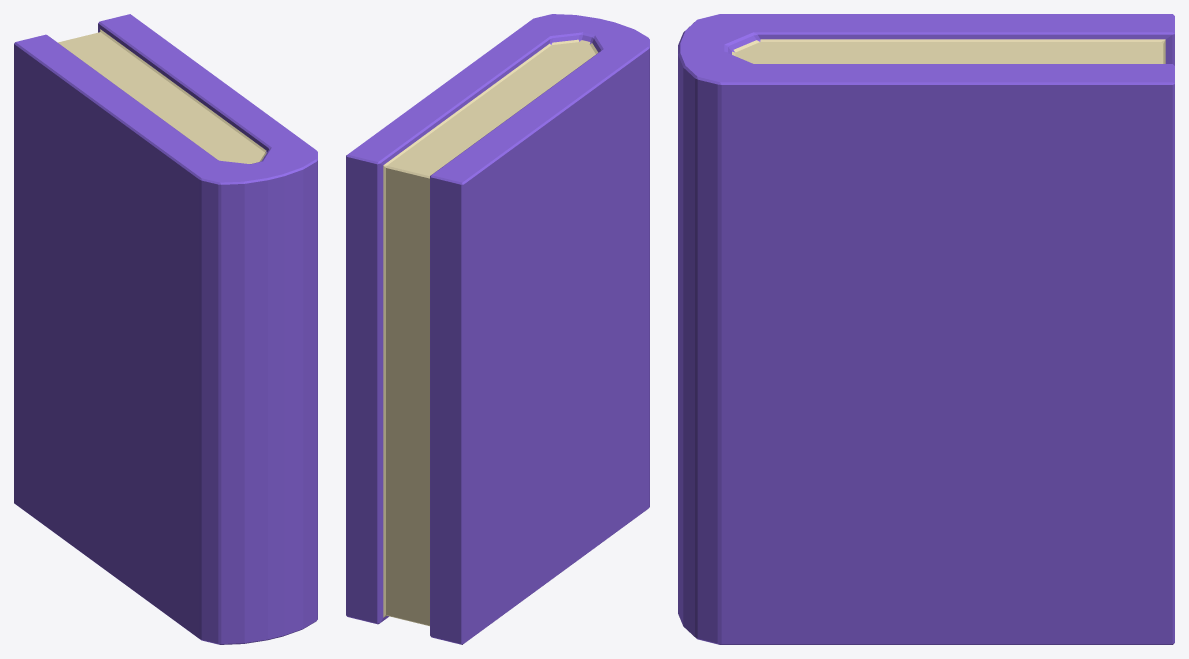
Rendered from Bedroom - book(1).fbx.
3 views of the same model, side by side, from view 1: azimuth 30°, elevation 25°; view 2: azimuth 150°, elevation 25°; view 3: azimuth 270°, elevation 25° (orthographic). The views are drawn at different scales.
Parts seen in each view (by area): view 1: Cube.365; view 2: Cube.365; view 3: Cube.365.
Boxes of the visible parts, x1,y1,x2,y2 form: Cube.365: (14,14,317,644); Cube.365: (346,14,649,644); Cube.365: (678,14,1174,644).
Size of the model in its own units: 32 by 120 by 96.
